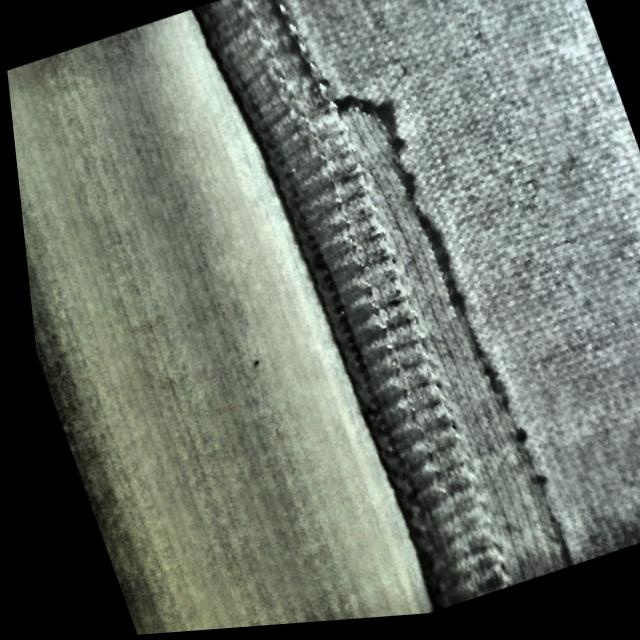seam: (218, 44, 626, 621)
